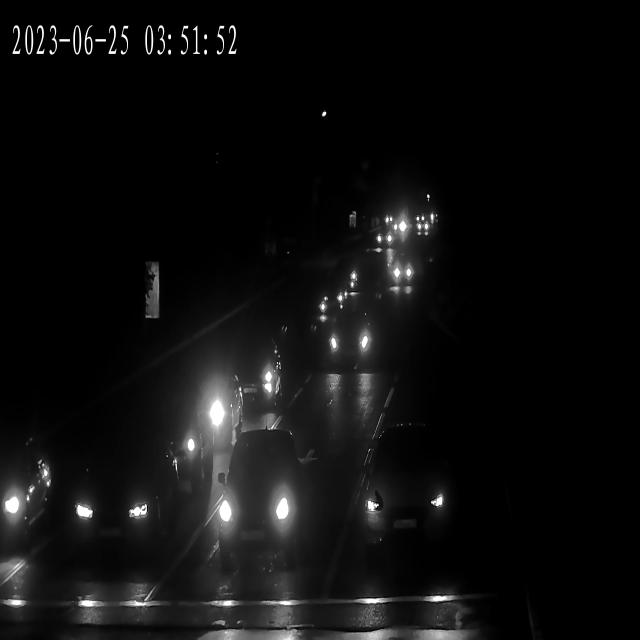Car: (54, 444, 174, 558), (352, 439, 455, 549), (217, 432, 307, 554), (158, 366, 245, 452), (0, 436, 49, 552), (218, 336, 286, 403), (324, 315, 378, 370), (319, 282, 350, 312), (392, 260, 418, 286), (387, 257, 413, 281), (370, 226, 395, 248), (371, 231, 397, 249), (388, 218, 408, 233), (380, 214, 399, 227), (414, 220, 432, 233)
